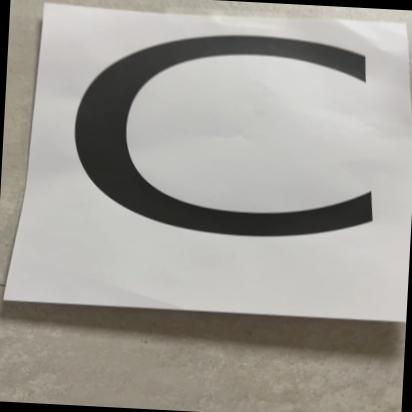seat: (24, 2, 404, 327)
